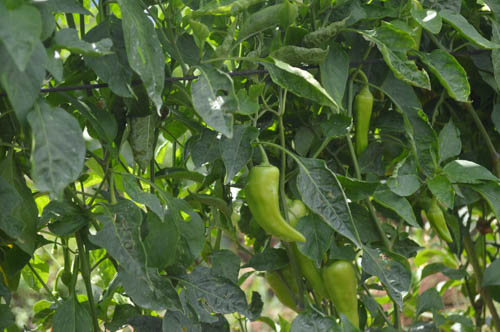ChiliPepper: (248, 165, 307, 242), (283, 200, 324, 290), (322, 263, 362, 322), (348, 94, 370, 148), (423, 206, 454, 244)
